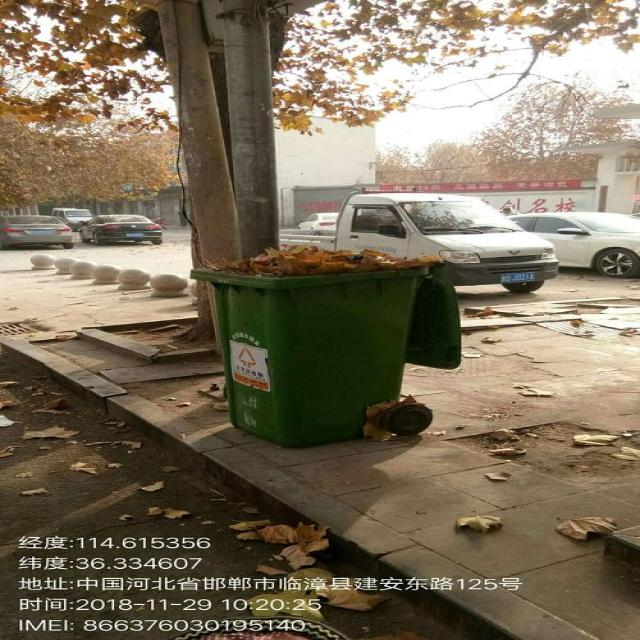overflow: (190, 243, 462, 448)
